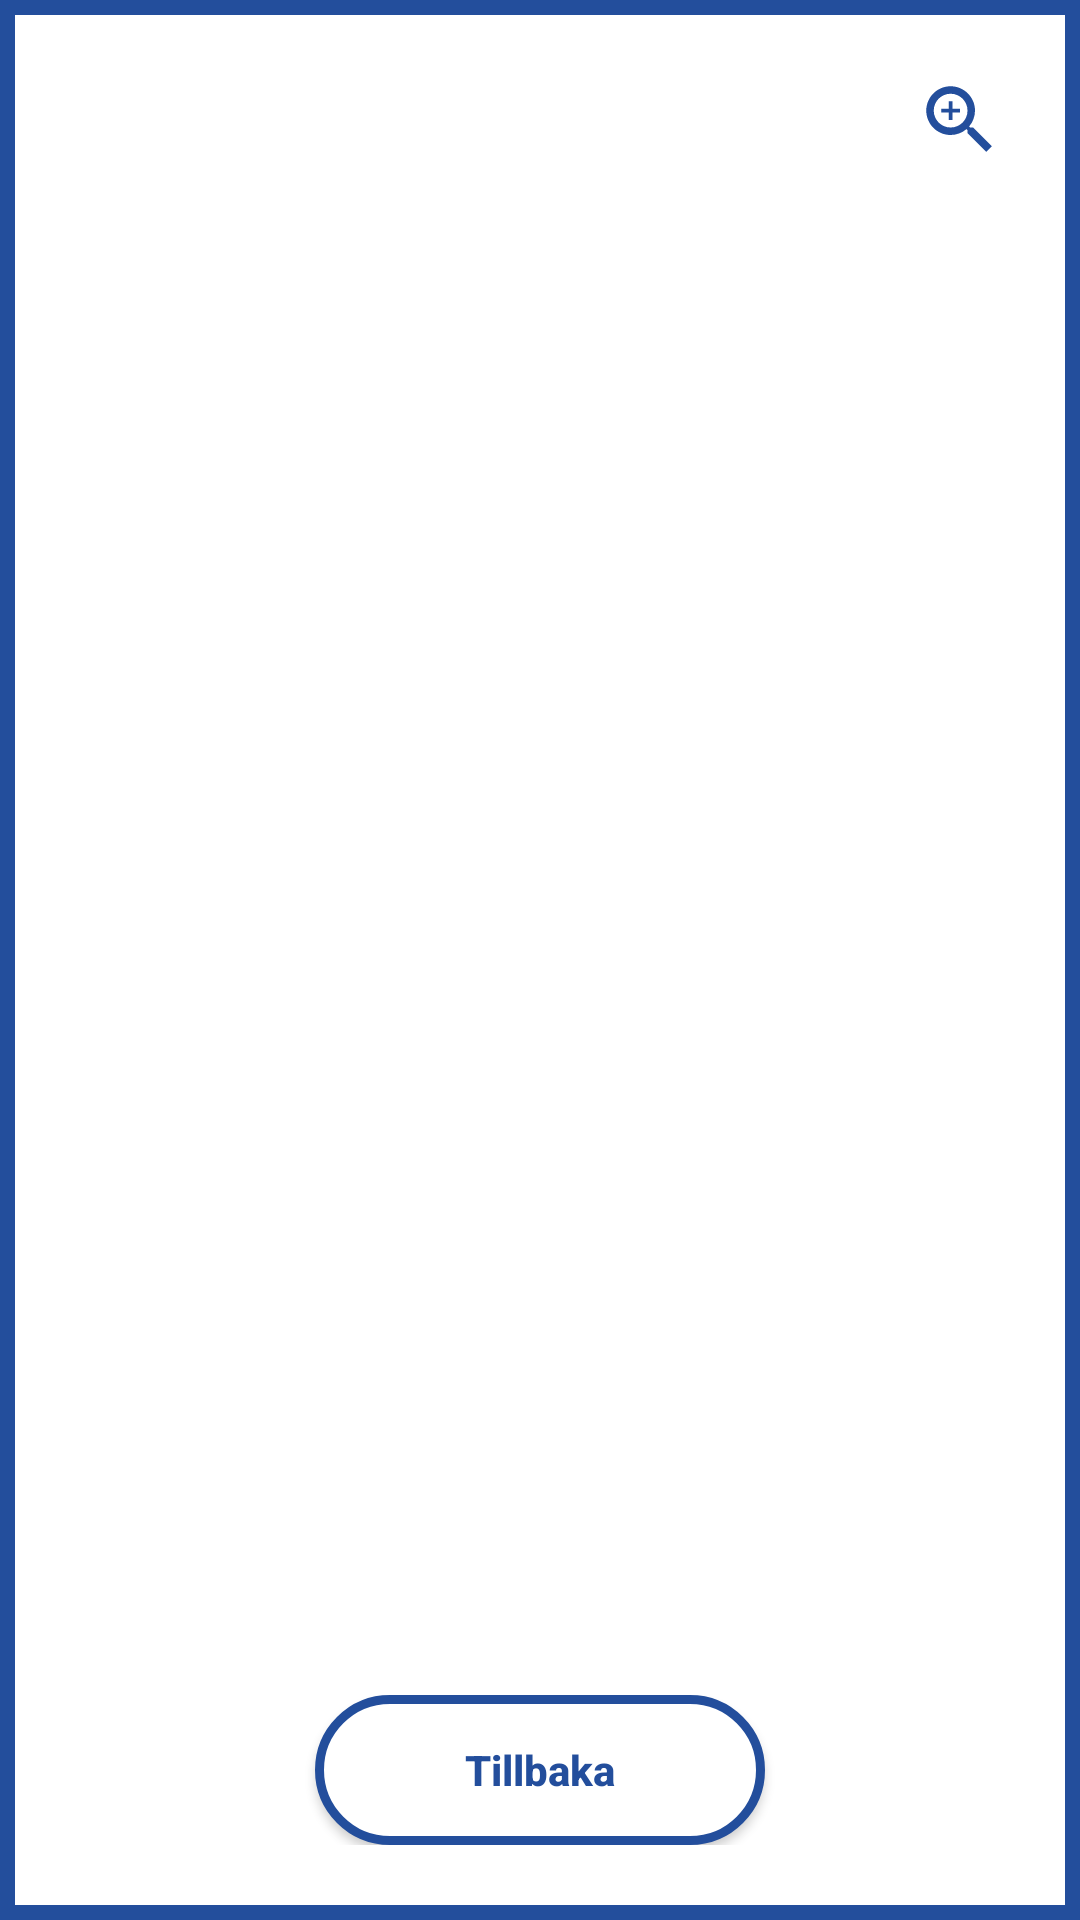

Named icons in this screenshot (1080*1920) and their centers, [x,y]:
zoom in: [959,119]
